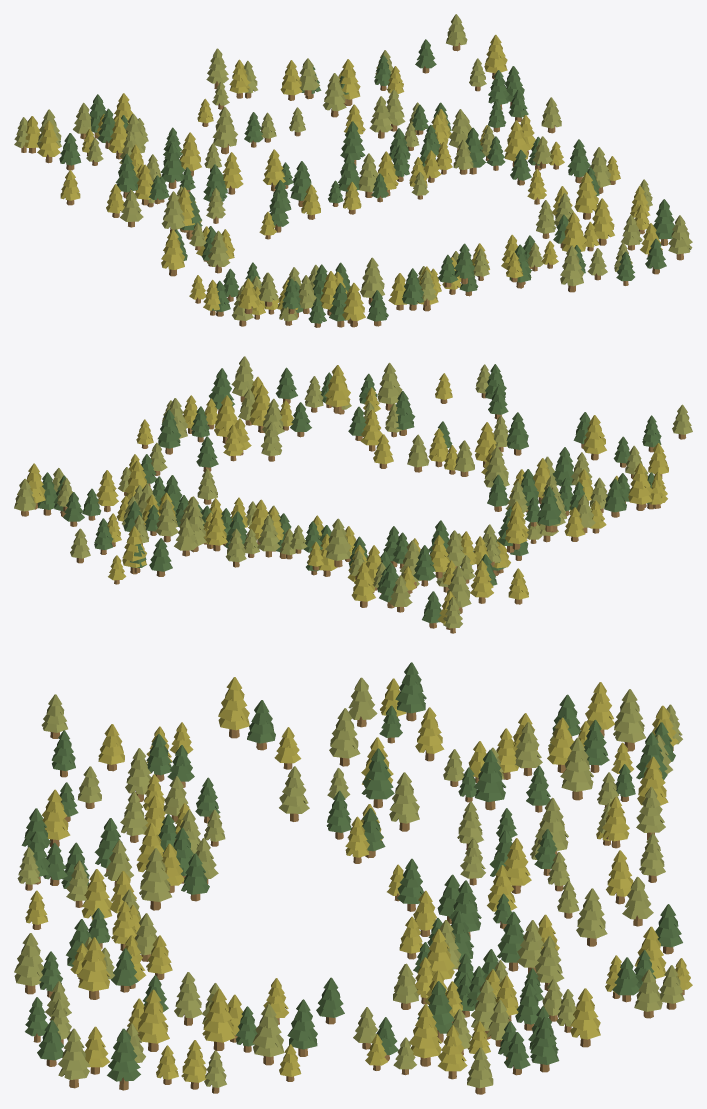
File: TeamTree.fbx
3 renders of one model, top to bottom at view 1: azimuth 30°, elevation 25°; view 2: azimuth 150°, elevation 25°; view 3: azimuth 270°, elevation 25°, orthographic. The views are drawn at different scales.
Visible parts, largest first — view 1: TeamTree; view 2: TeamTree; view 3: TeamTree.
Boxes of the visible parts, box(x1,y1,x2,y2) form: TeamTree: box(14, 14, 692, 327); TeamTree: box(14, 356, 692, 633); TeamTree: box(14, 662, 692, 1094).
Bounding box in the file's own units: 16400 × 3672 × 14864.
